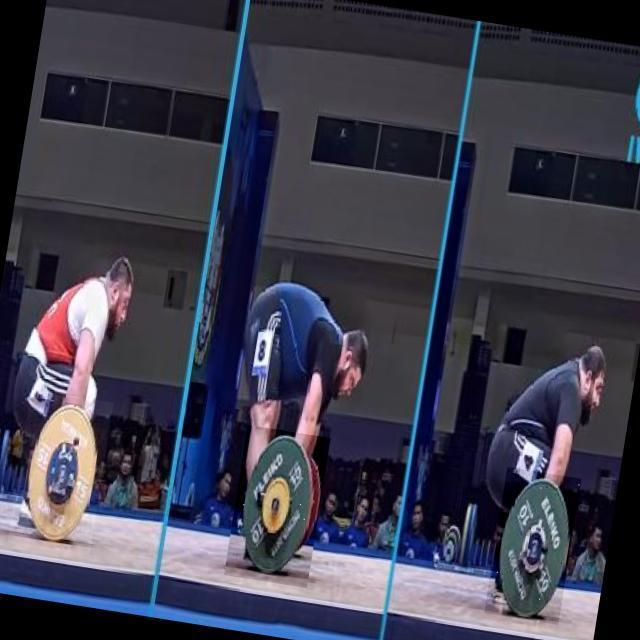barbell: (225, 427, 332, 592), (9, 391, 115, 556), (486, 468, 583, 626)
